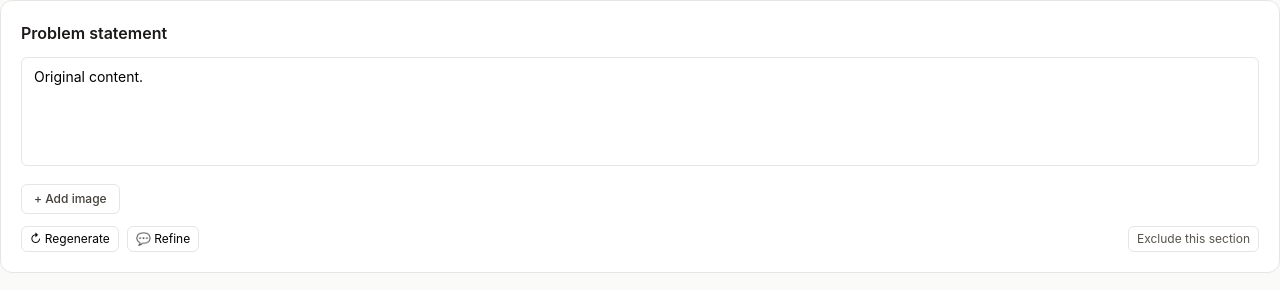
it: SectionBlock › toggle-off greys out the block and shows a re-include action
Click the button "Exclude this section".
click(1194, 239)  # box [1128,226,1259,252]
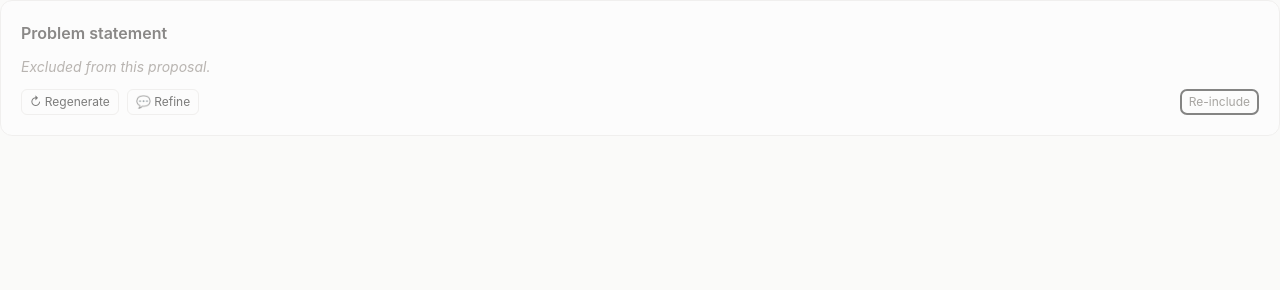
Expected: the button "Re-include" is shown, [1180,89,1259,115]
